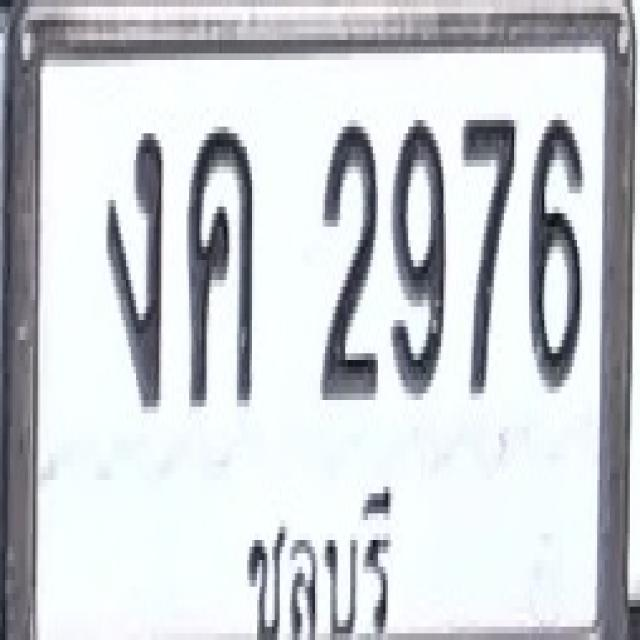2: (318, 116, 376, 396)
6: (528, 113, 583, 387)
7: (460, 110, 515, 397)
9: (389, 114, 445, 394)
A04: (187, 120, 254, 407)
A07: (104, 126, 162, 406)
CBI: (235, 473, 398, 640)
